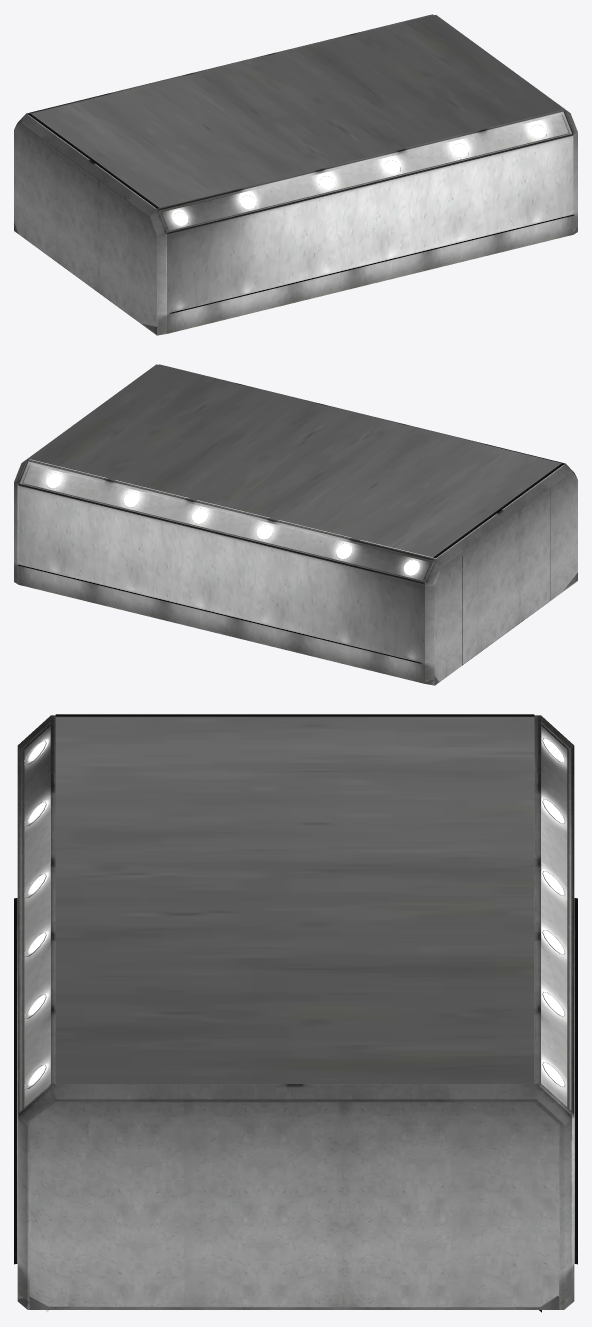
Rendered from room.glb.
The picture shows the model from 3 angles, top to bottom: view 1: azimuth 30°, elevation 25°; view 2: azimuth 150°, elevation 25°; view 3: azimuth 270°, elevation 25°; orthographic projection. The views are drawn at different scales.
Visible parts, largest first — view 1: Cube_0; view 2: Cube_0, Cube_1; view 3: Cube_0.
Boxes of the visible parts, x1,y1,x2,y2 form: Cube_0: (14,14,577,335); Cube_0: (14,364,577,685); Cube_1: (30,459,563,558); Cube_0: (14,714,577,1312).
Bounding box in the file's own units: 16.53 × 4.52 × 10.34.
2 materials, 1 textured.
